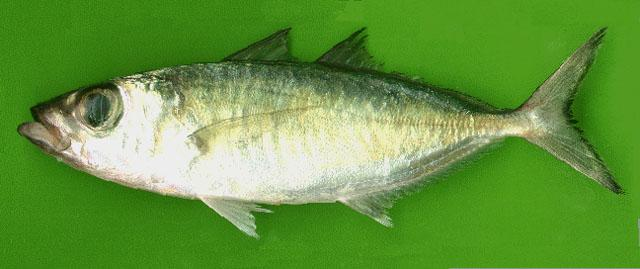Mulut: (7, 87, 65, 167)
Sirip Anal: (344, 129, 510, 241)
Sirip Dada: (188, 100, 328, 160)
Sirip Ekor: (512, 22, 628, 204)
Sirip Perut: (190, 186, 284, 246)
Sirip Punggung: (220, 13, 406, 86)
